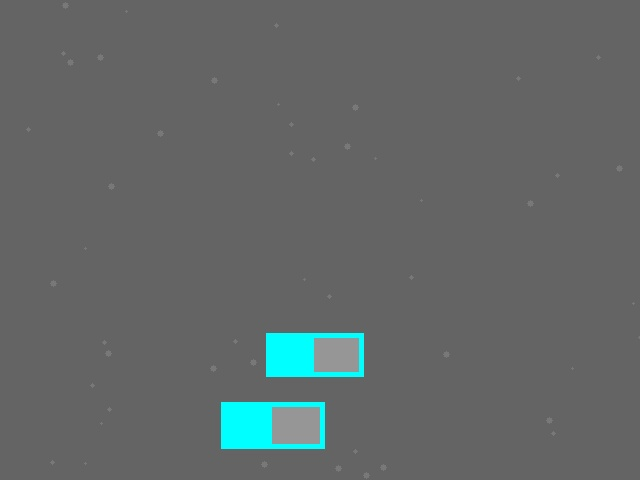truck: (221, 402, 324, 448), (266, 333, 363, 376)
